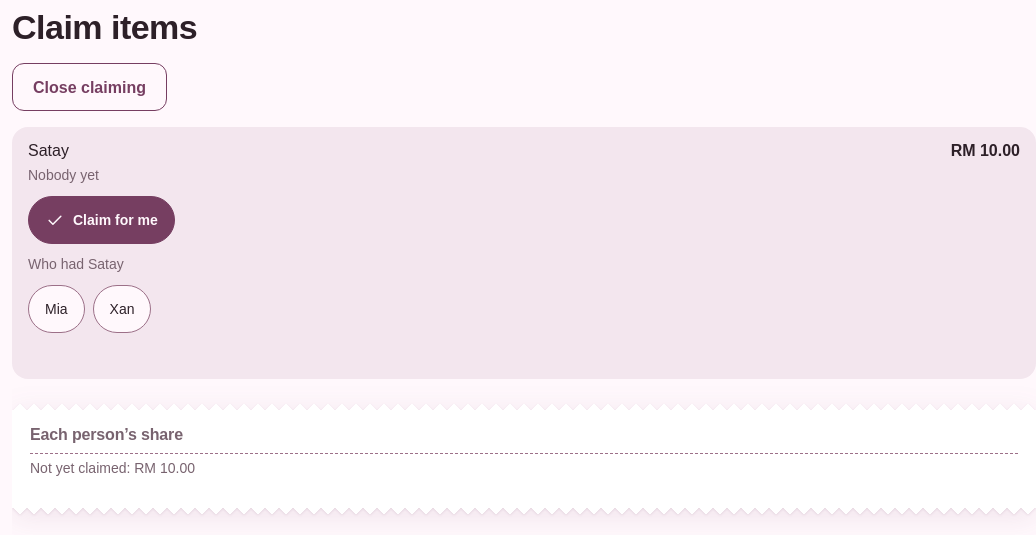
it: ClaimItemsRoute › saves one item for several people as soon as their names are tapped (expense creator)
The width and height of the screenshot is (1036, 535).
Step 1. Click the button "Mia" → {"x": 56, "y": 309}, box [28,285,85,333]
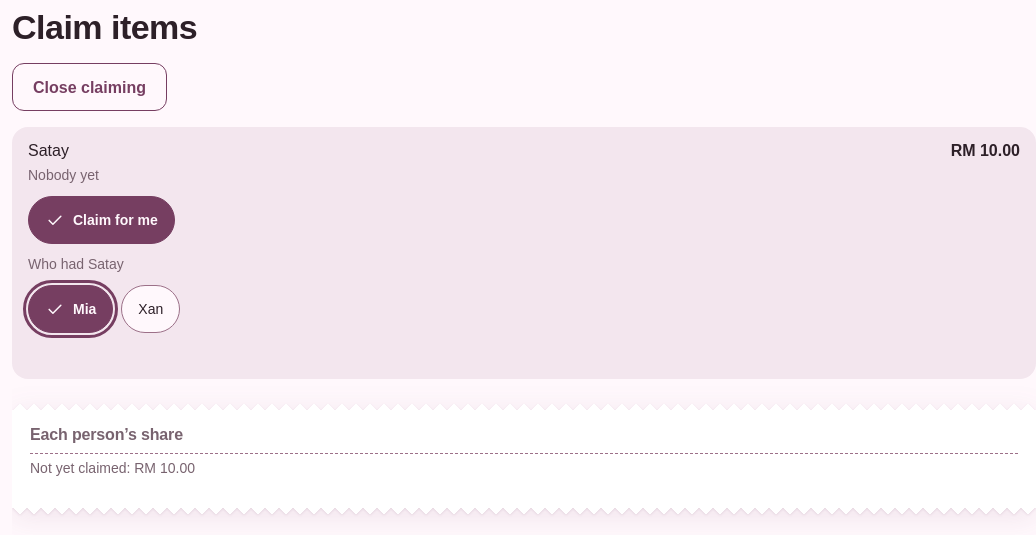
Step 2. Click the button "Xan" → {"x": 151, "y": 309}, box [121,285,180,333]
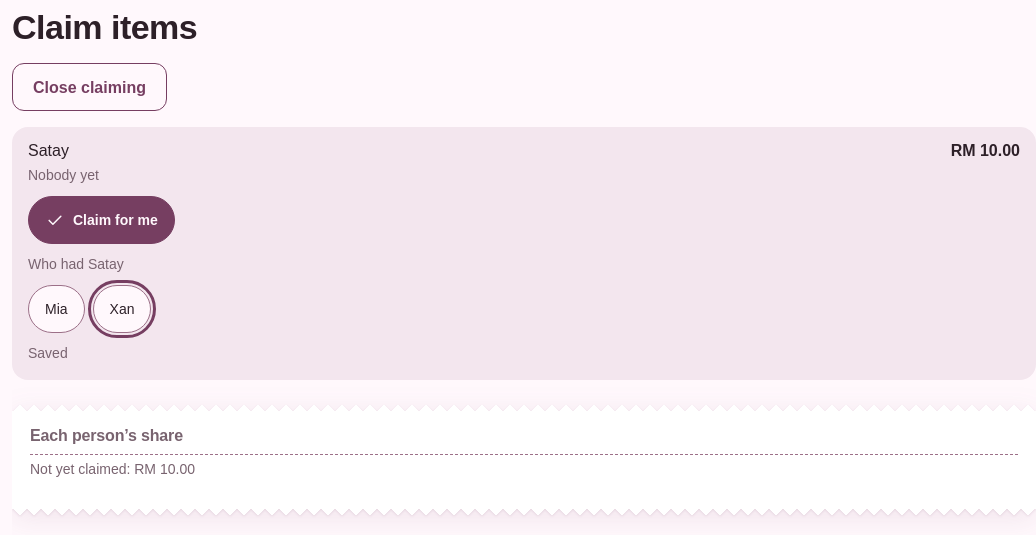
expect the text "Saved" is shown: met, box [28,343,68,364]
